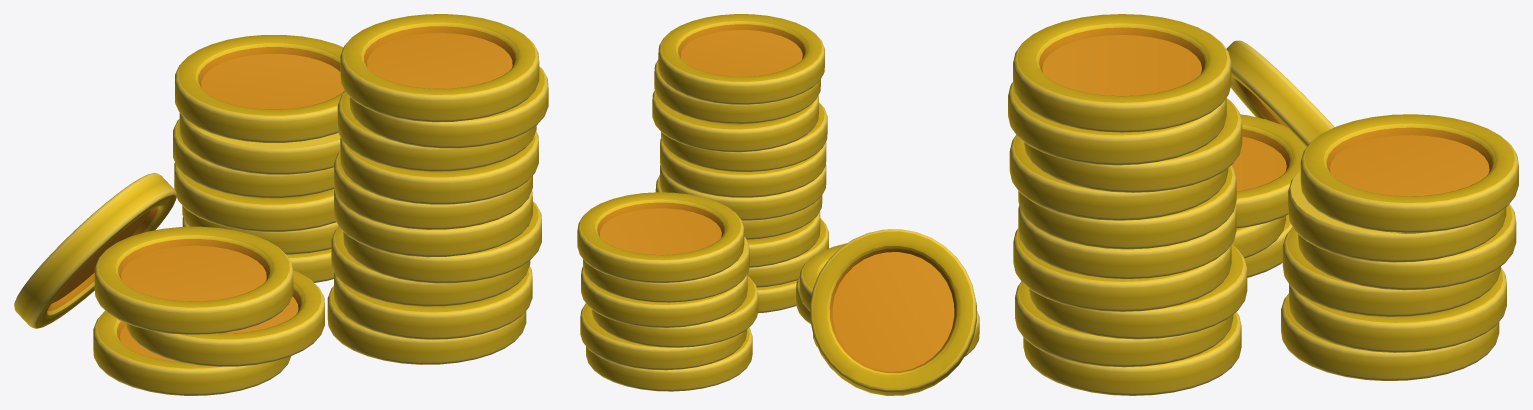
Rendered from Coins.glb.
3 renders of one model, left to right at view 1: azimuth 30°, elevation 25°; view 2: azimuth 150°, elevation 25°; view 3: azimuth 270°, elevation 25°, orthographic. The views are drawn at different scales.
Visible parts, largest first — view 1: Cylinder.003; view 2: Cylinder.003; view 3: Cylinder.003.
Part boxes in pixels (bbox=[...]): Cylinder.003: bbox=[14, 14, 548, 395]; Cylinder.003: bbox=[577, 14, 979, 395]; Cylinder.003: bbox=[1008, 14, 1518, 395].
Bounding box in the file's own units: 1.83 × 1.08 × 1.68.
1 material, 1 textured.
